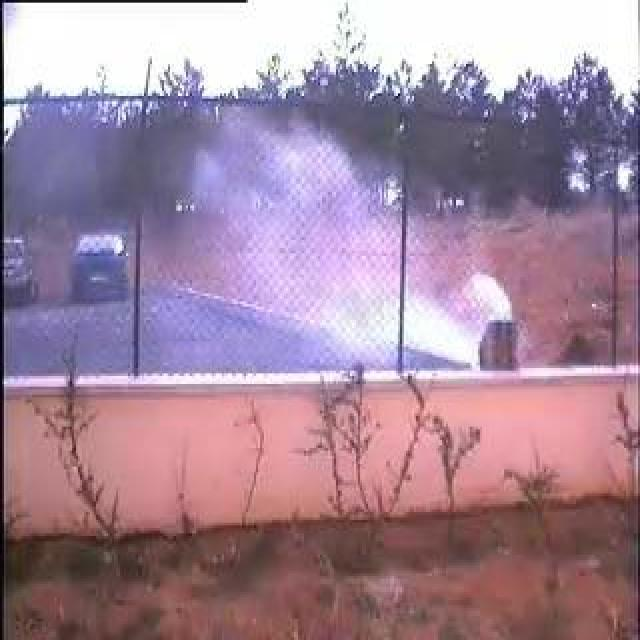Smoke: (207, 132, 513, 367)
